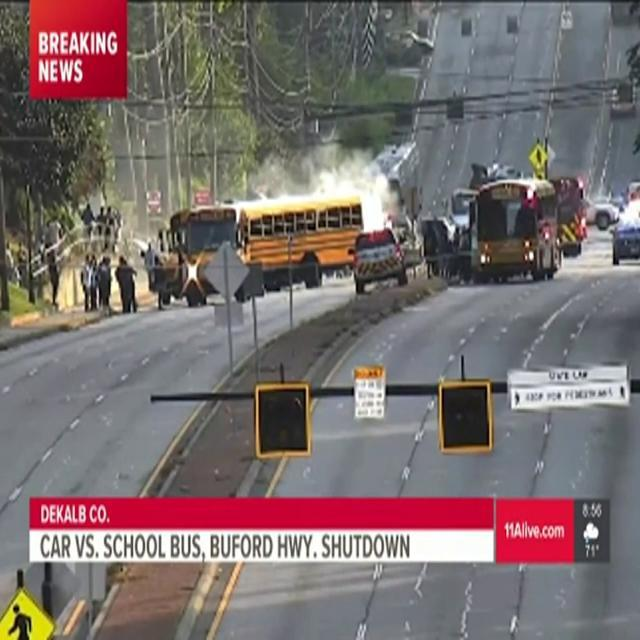Smoke: (237, 136, 402, 206)
